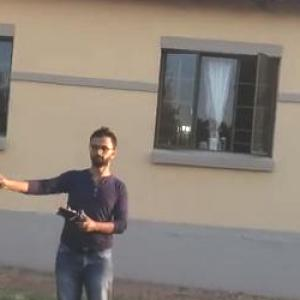follow: (0, 122, 133, 299)
